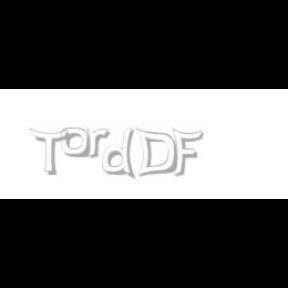D: (134, 128, 178, 178)
F: (171, 128, 203, 178)
T: (29, 128, 69, 176)
d: (102, 128, 140, 180)
o: (61, 128, 90, 158)
r: (86, 128, 114, 158)
